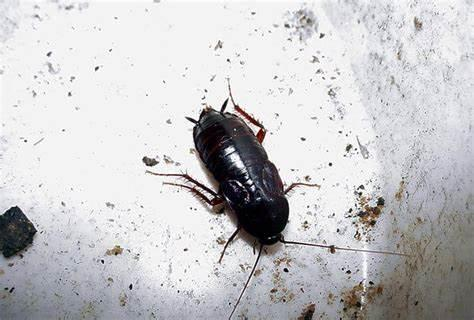cockroach: (191, 100, 292, 252)
